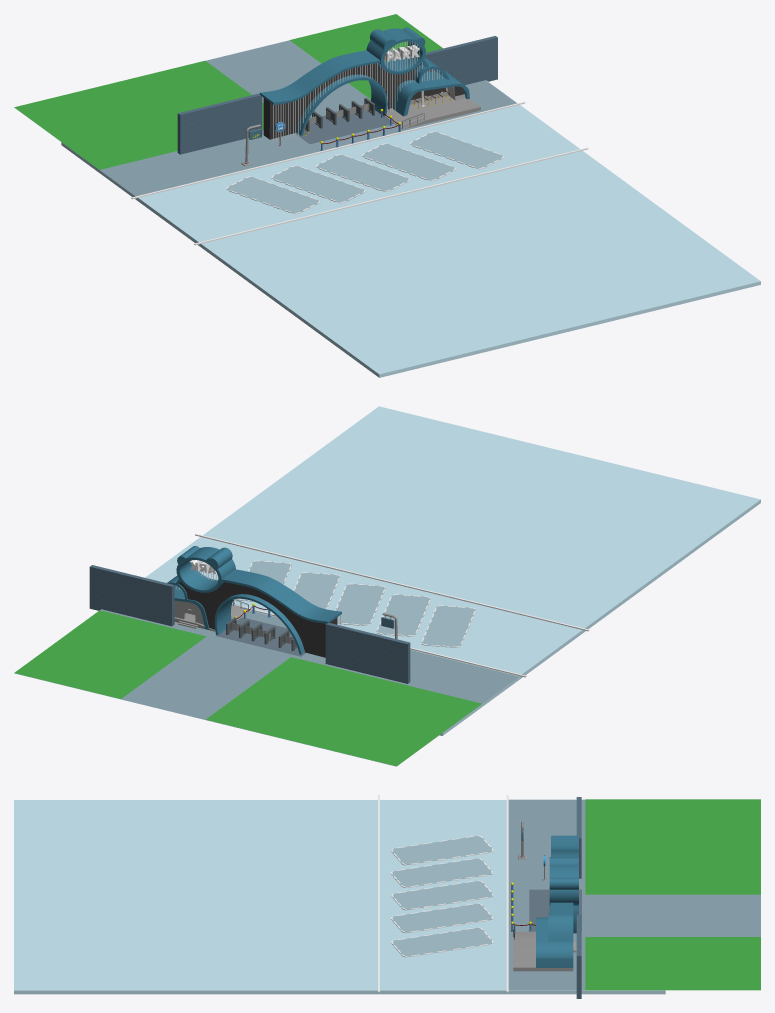
The model's file is Park Env up.fbx.
The picture shows the model from 3 angles, top to bottom: view 1: azimuth 30°, elevation 25°; view 2: azimuth 150°, elevation 25°; view 3: azimuth 270°, elevation 25°; orthographic projection. The views are drawn at different scales.
Visible parts, largest first — view 1: main_base001.001, Plane001.001, house_floor001.001, wall.001, pCube9.001, pCube45.001, curb001.001, pCylinder99.001, vehicle_stand012.010, vehicle_stand012.011, vehicle_stand012.012, vehicle_stand012.014 (+6 smaller); view 2: main_base001.001, Plane001.001, house_floor001.001, wall.001, pCube9.001, pCube45.001, pCylinder8.001, vehicle_stand012.010, vehicle_stand012.014, vehicle_stand012.013, curb001.001, vehicle_stand012.012 (+4 smaller); view 3: main_base001.001, Plane001.001, house_floor001.001, pCube9.001, vehicle_stand012.012, vehicle_stand012.014, vehicle_stand012.010, vehicle_stand012.011, vehicle_stand012.013, pCylinder8.001, polySurface1.001, curb001.001 (+2 smaller).
Part boxes in pixels (x1,y1,x2,y2): main_base001.001: [61, 80, 760, 377]; Plane001.001: [14, 14, 442, 169]; house_floor001.001: [25, 40, 516, 196]; wall.001: [177, 36, 497, 154]; pCube9.001: [260, 50, 469, 116]; pCube45.001: [263, 63, 421, 139]; curb001.001: [131, 101, 588, 245]; pCylinder99.001: [273, 41, 442, 142]; vehicle_stand012.010: [226, 176, 320, 214]; vehicle_stand012.011: [409, 131, 504, 169]; vehicle_stand012.012: [361, 143, 456, 181]; vehicle_stand012.014: [315, 154, 410, 191]; main_base001.001: [100, 406, 760, 735]; Plane001.001: [14, 610, 481, 766]; house_floor001.001: [15, 609, 519, 766]; wall.001: [89, 565, 410, 683]; pCube9.001: [167, 569, 341, 629]; pCube45.001: [179, 581, 337, 657]; pCylinder8.001: [176, 546, 235, 592]; vehicle_stand012.010: [421, 605, 475, 647]; vehicle_stand012.014: [335, 583, 385, 625]; vehicle_stand012.013: [376, 594, 430, 636]; curb001.001: [195, 533, 589, 677]; vehicle_stand012.012: [293, 572, 339, 609]; main_base001.001: [14, 800, 665, 994]; Plane001.001: [585, 799, 760, 990]; house_floor001.001: [508, 799, 760, 990]; pCube9.001: [536, 835, 578, 967]; vehicle_stand012.012: [391, 903, 493, 933]; vehicle_stand012.014: [391, 880, 493, 910]; vehicle_stand012.010: [391, 835, 493, 865]; vehicle_stand012.011: [391, 927, 493, 957]; vehicle_stand012.013: [391, 858, 492, 887]; pCylinder8.001: [549, 857, 578, 905]; polySurface1.001: [513, 931, 573, 971]; curb001.001: [378, 795, 508, 992].
Size of the model in its own units: 101 by 19.33 by 159.
Materials: 22 (2 with a texture image).
